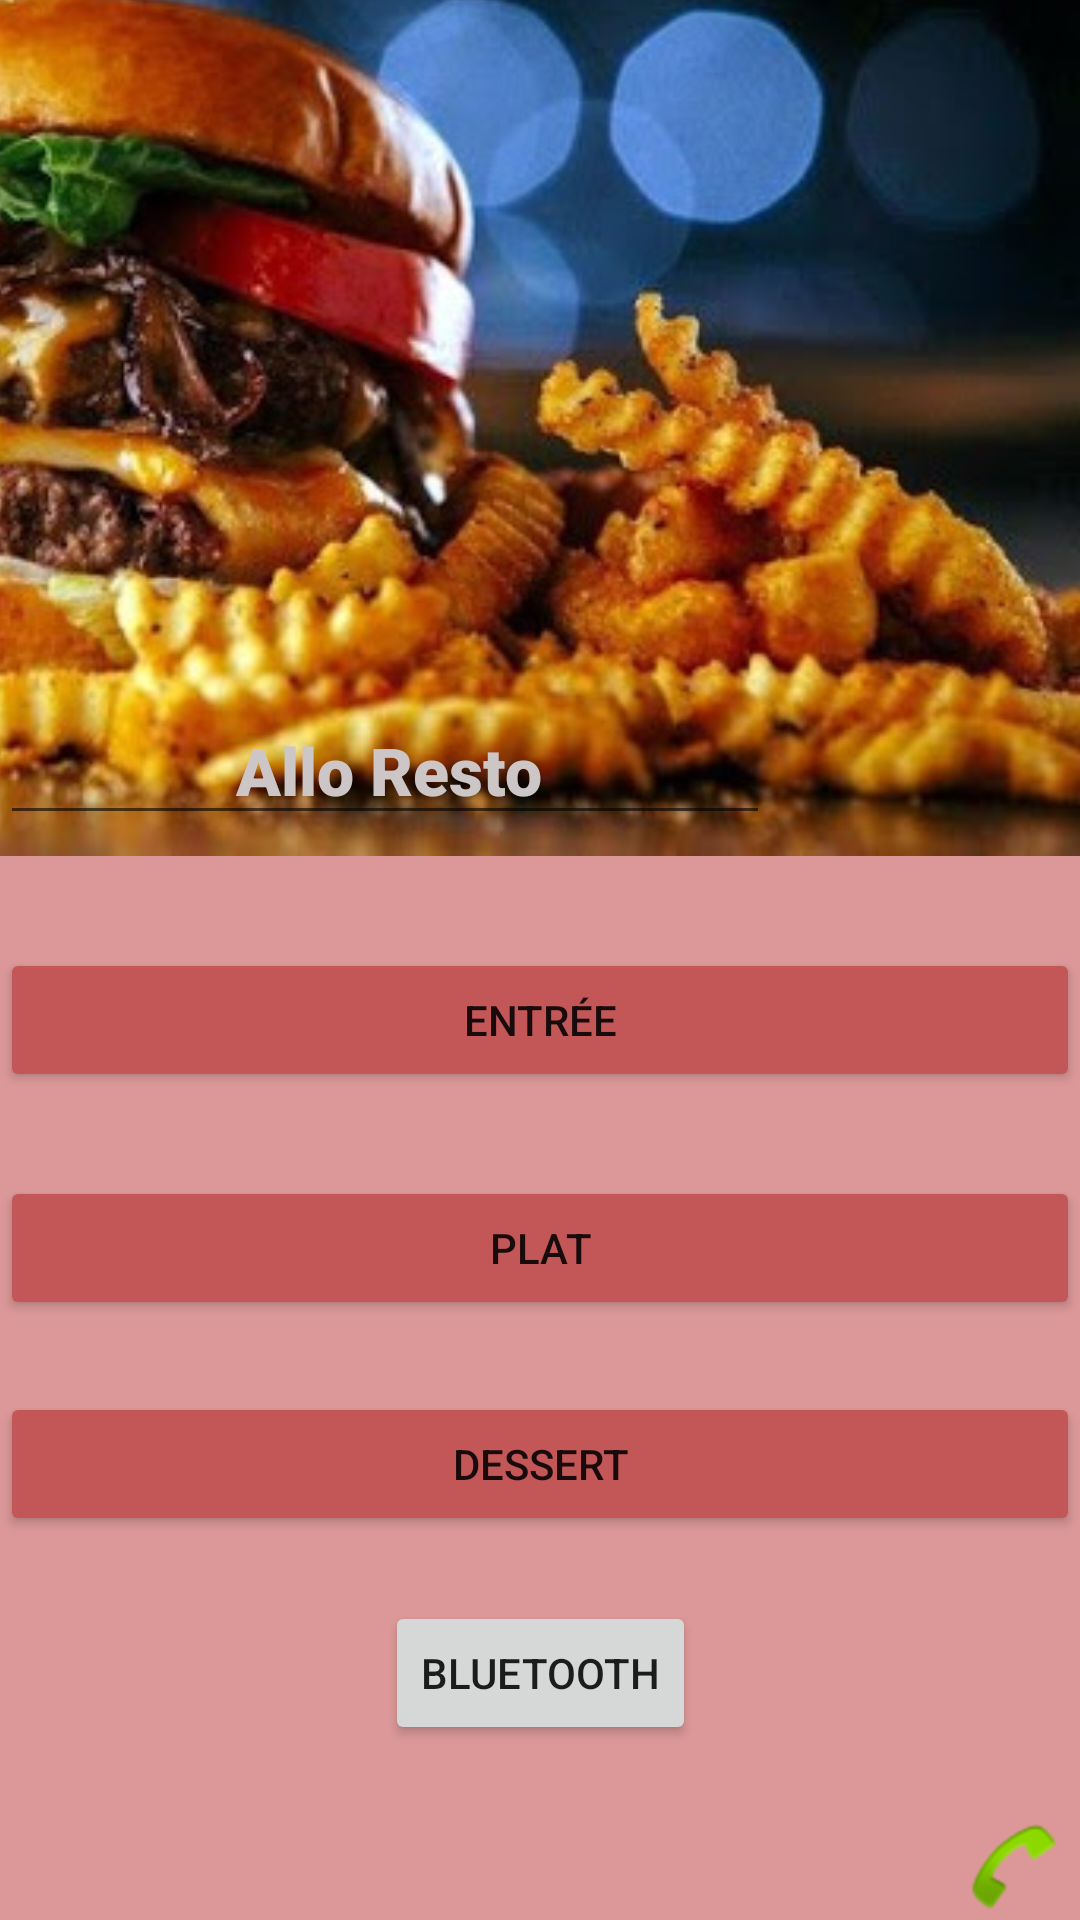

Locate icon controls on the screen. Image size 1080x1920, boxes as (x1, y1, x2, y2).
sym action call: (972, 1825, 1056, 1909)
